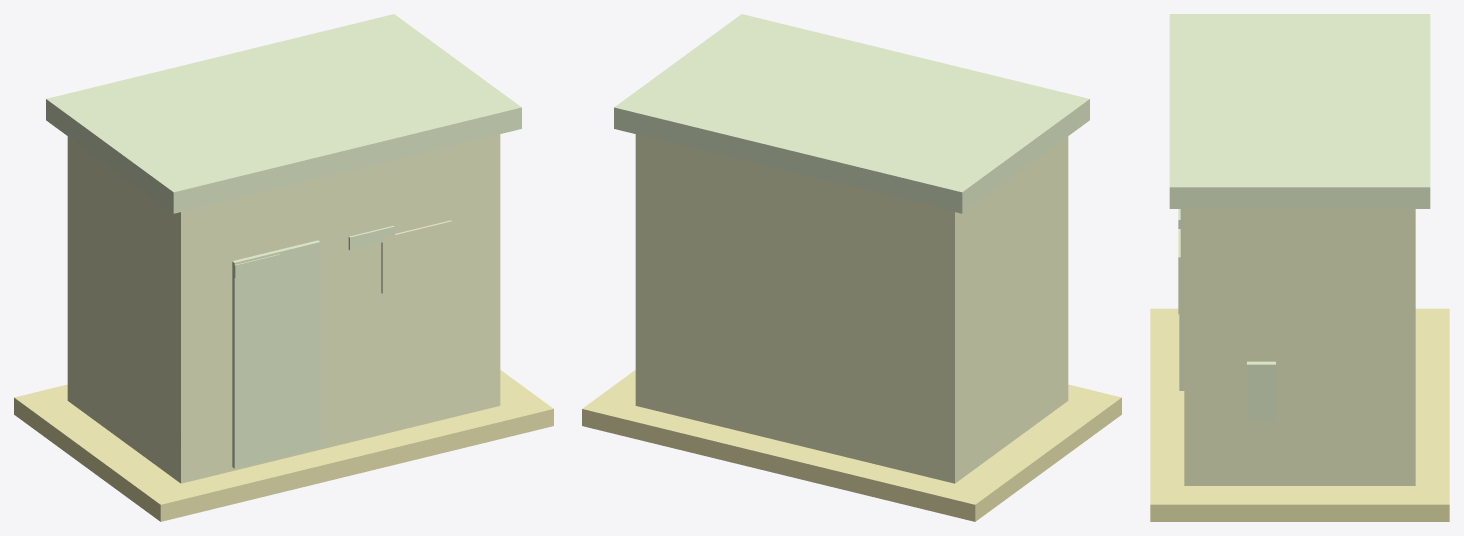
File: furniture_rail_crossing_bungalow.glb
3 views of the same model, side by side, from view 1: azimuth 30°, elevation 25°; view 2: azimuth 150°, elevation 25°; view 3: azimuth 270°, elevation 25° (orthographic).
Parts seen in each view (by area): view 1: body, roof, pad, door, window, vent_left, vent_right; view 2: body, roof, pad; view 3: body, roof, pad, service_disconnect, door.
Part boxes in pixels (box(x1,y1,x2,y2)): body: box(67, 134, 500, 483); roof: box(46, 14, 521, 213); pad: box(14, 370, 553, 521); door: box(232, 240, 320, 468); window: box(381, 220, 452, 293); vent_left: box(234, 254, 280, 278); vent_right: box(348, 225, 394, 250); body: box(635, 134, 1068, 483); roof: box(614, 14, 1089, 213); pad: box(582, 370, 1121, 521); body: box(1184, 209, 1415, 485); roof: box(1169, 14, 1430, 208); pad: box(1150, 308, 1449, 521); service_disconnect: box(1247, 361, 1275, 421); door: box(1179, 209, 1184, 390).
Size of the model in its own units: 1.92 by 1.48 by 1.24.
